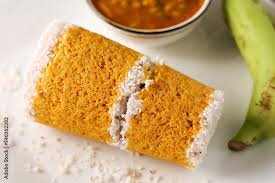pittu: (34, 23, 222, 175)
